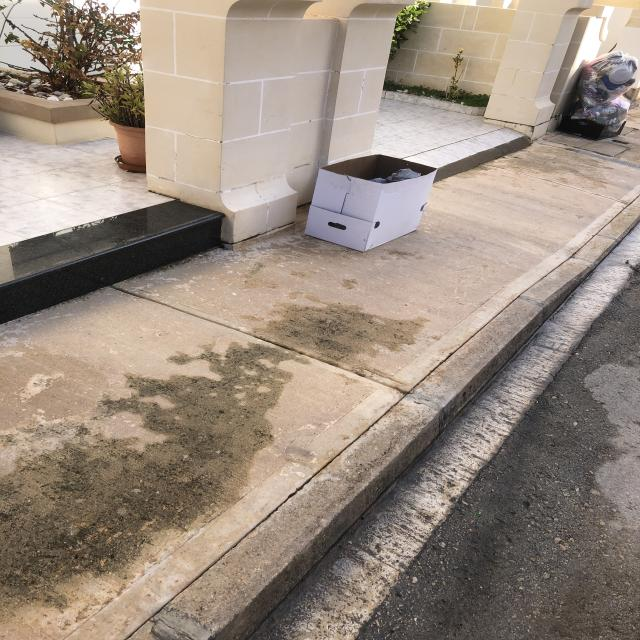Mixed Waste -Black Bag-: (369, 169, 424, 188)
Other: (304, 154, 438, 254), (559, 114, 628, 141)
Recycled Waste -Grey or Green Bag-: (578, 51, 639, 112), (572, 99, 631, 134)
